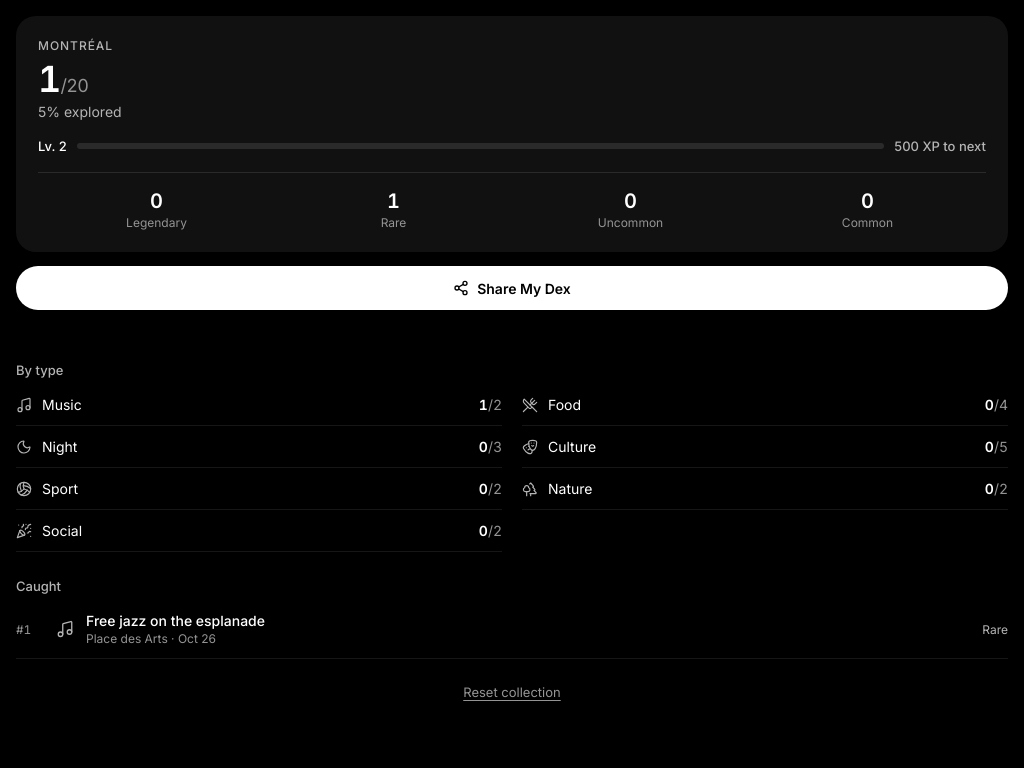
Test: DexView sharing › shares the stats computed from the collection and confirms
Click the button "Share My Dex". click: x=512, y=288
box: [16,266,1008,310]
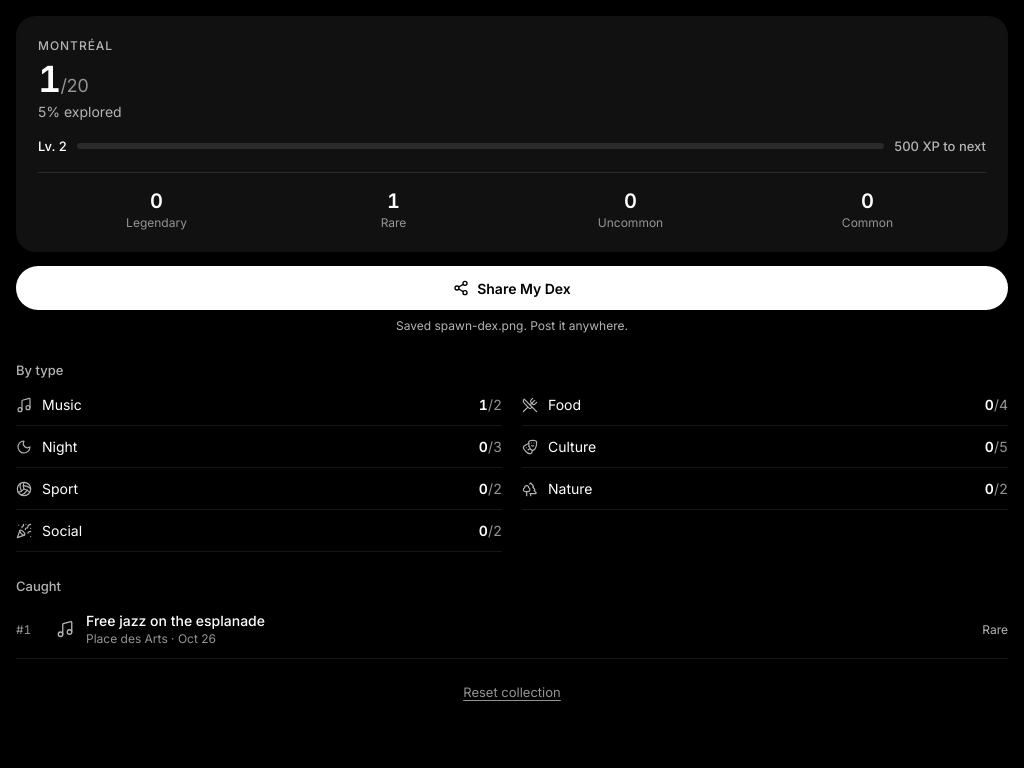
Result: the text "Saved spawn-dex.png. Post it anywhere." is shown at [396,318,628,333]
